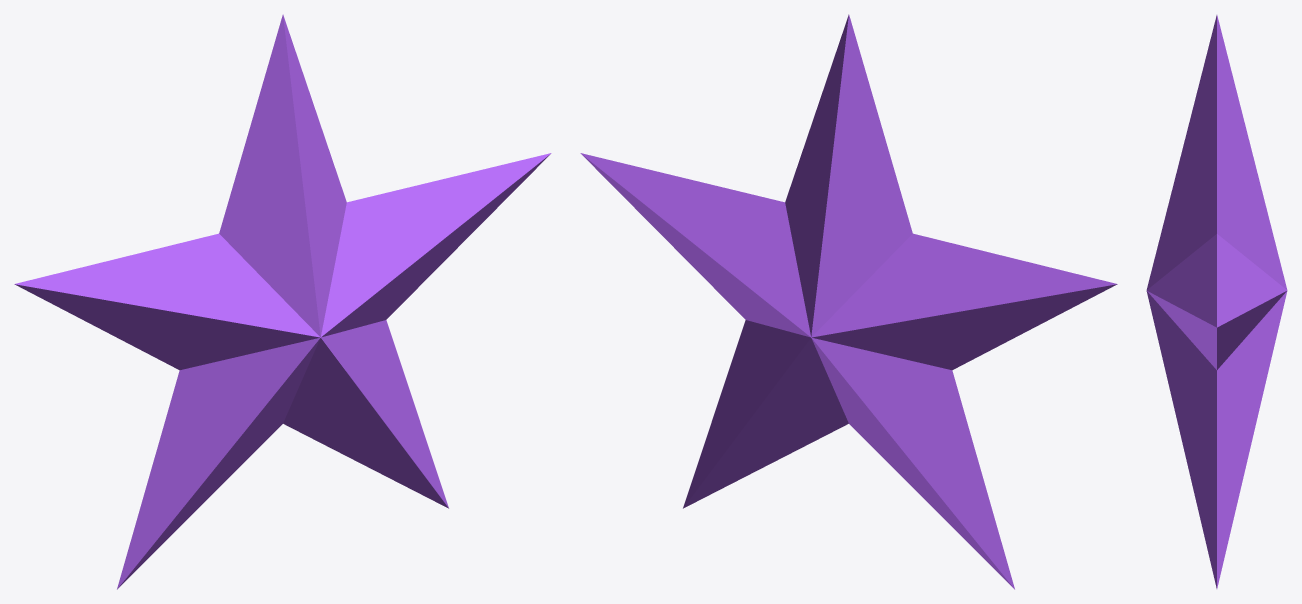
The model's file is purplestar.glb.
3 renders of one model, left to right at view 1: azimuth 30°, elevation 25°; view 2: azimuth 150°, elevation 25°; view 3: azimuth 270°, elevation 25°, orthographic. The views are drawn at different scales.
Visible parts, largest first — view 1: Circle.001_Circle.007; view 2: Circle.001_Circle.007; view 3: Circle.001_Circle.007.
Boxes of the visible parts, x1,y1,x2,y2 form: Circle.001_Circle.007: [14, 14, 551, 589]; Circle.001_Circle.007: [580, 14, 1117, 589]; Circle.001_Circle.007: [1146, 15, 1287, 588].
Size of the model in its own units: 10.44 by 9.93 by 2.54.
